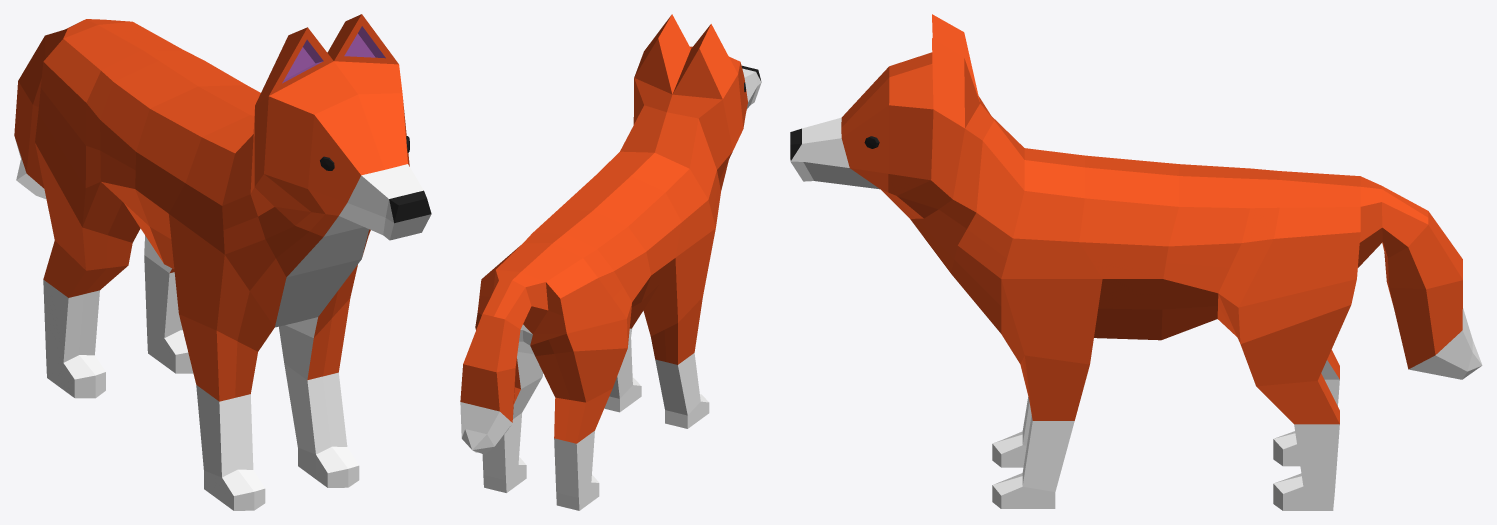
Rendered from animals-dog-070.glb.
The picture shows the model from 3 angles, left to right: view 1: azimuth 30°, elevation 25°; view 2: azimuth 150°, elevation 25°; view 3: azimuth 270°, elevation 25°; orthographic projection. The views are drawn at different scales.
Visible parts, largest first — view 1: Fox_01_Cube.046; view 2: Fox_01_Cube.046; view 3: Fox_01_Cube.046.
Part boxes in pixels (x1,y1,x2,y2): Fox_01_Cube.046: (14,14,431,510); Fox_01_Cube.046: (460,14,761,510); Fox_01_Cube.046: (790,14,1482,510).
Size of the model in its own units: 3.52 by 10.33 by 14.22.
